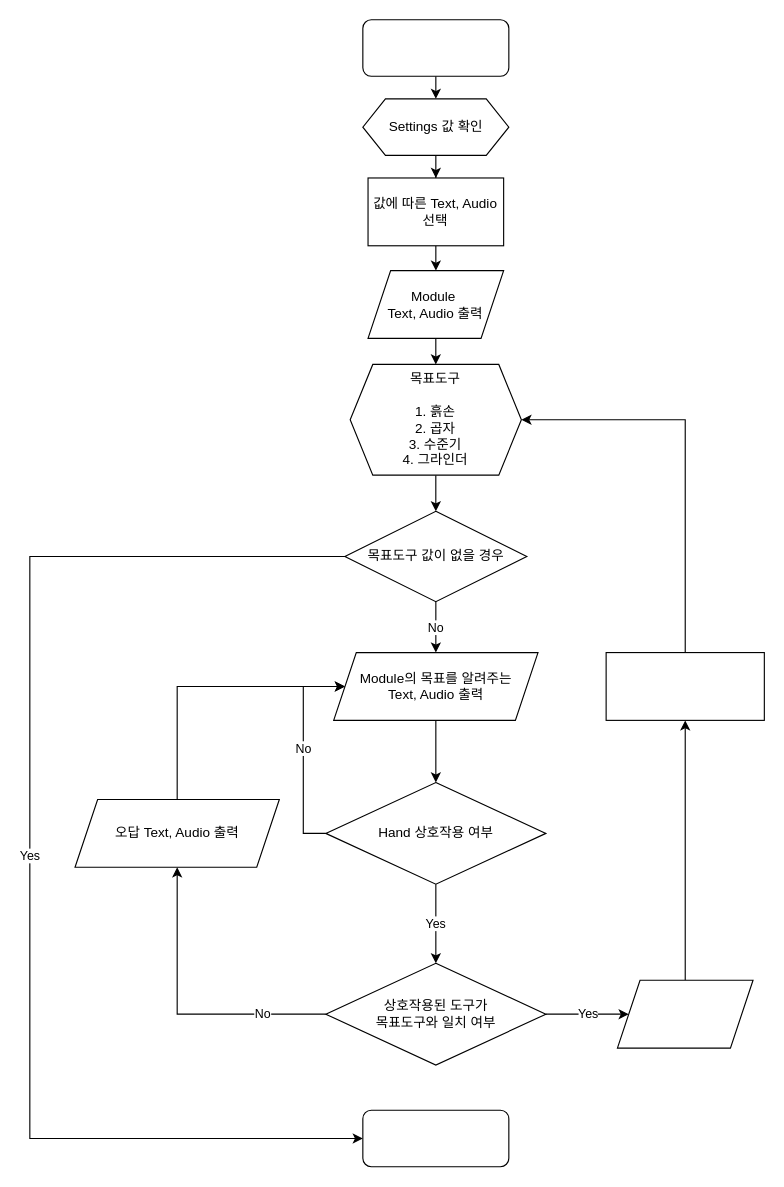
The diagram is 784 pixels wide and 1187 high, and some of its shapes have lost their labels. Each missing label, with the centre of its shape:
"Module-2 끝" belongs at point 435,1138.
"Module-2 시작" belongs at point 435,47.
"목표도구을 다음순서로 변경" belongs at point 684,685.
"목표도구의 설명 Text, Audio 출력" belongs at point 684,1013.
